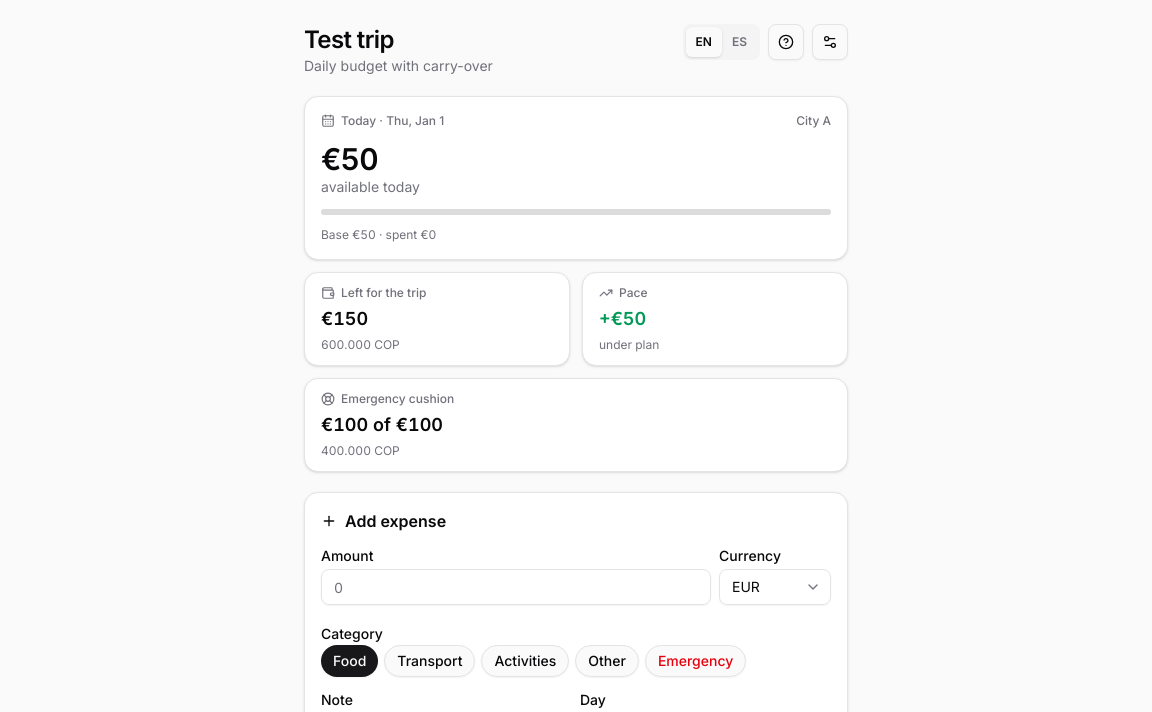
Test: settings › changes a day budget and the summary follows
This screenshot has width=1152, height=712.
Click the button named "Trip settings". click: (830, 42)
box: x1=812 y1=24 x2=848 y2=60
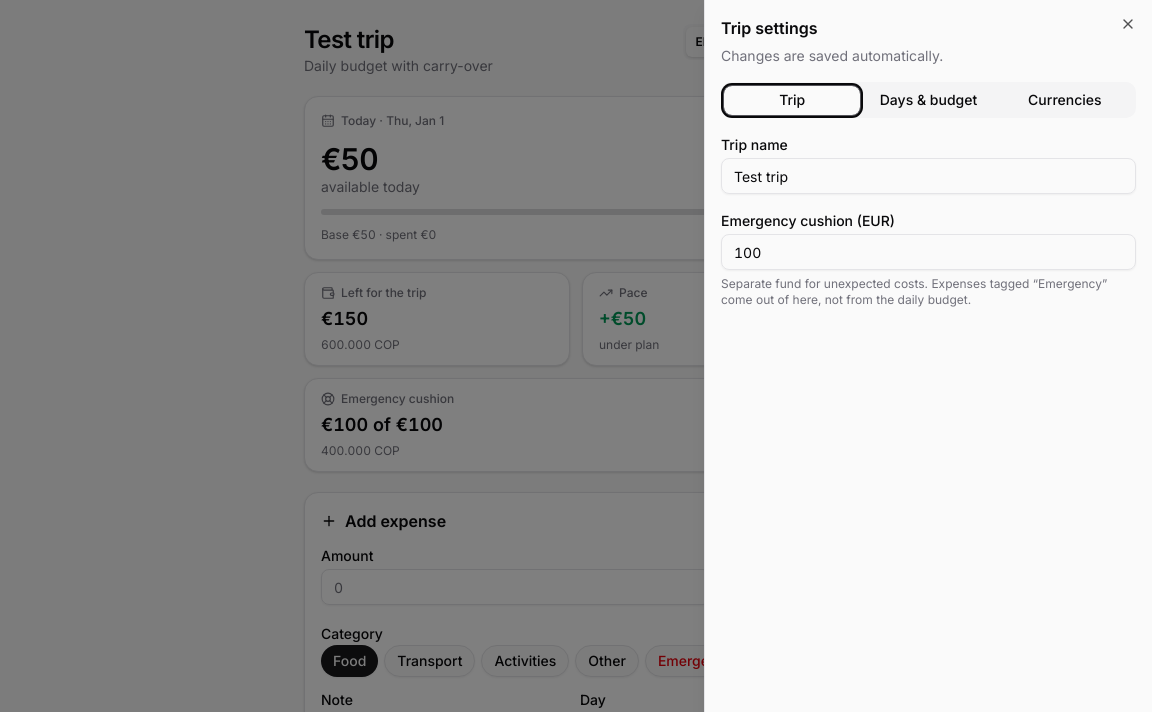
Click the tab "Days & budget". click: (928, 100)
box: x1=860 y1=86 x2=997 y2=114
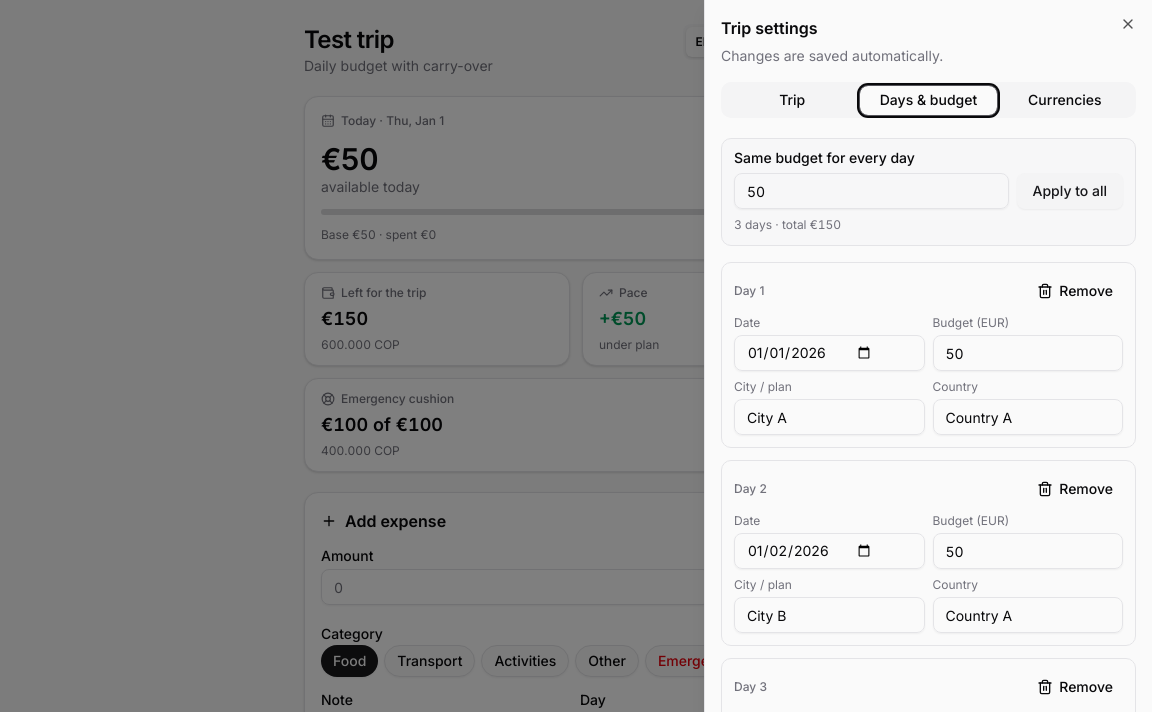
Replace the text in the number field labelled "Budget (EUR)" below "Day 1" with "80". click: (1028, 353)
box: x1=932 y1=335 x2=1123 y2=371
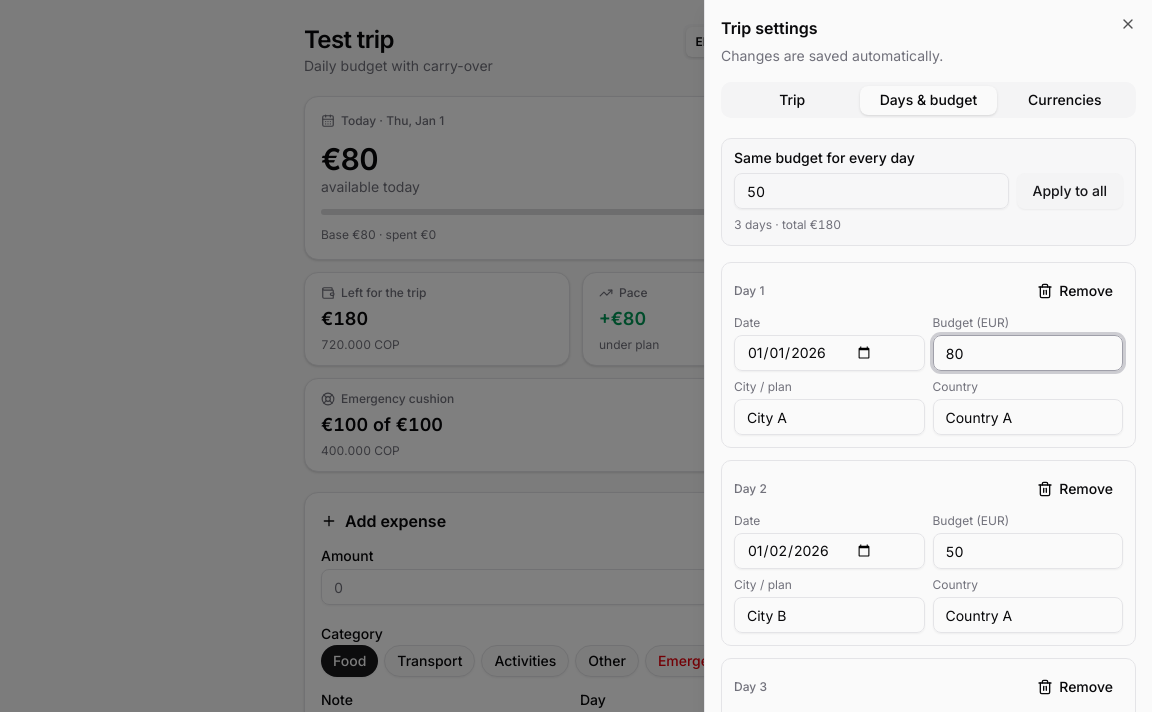
expect the text with test id "available-today" reads "€80": met, box x1=321 y1=141 x2=378 y2=177
